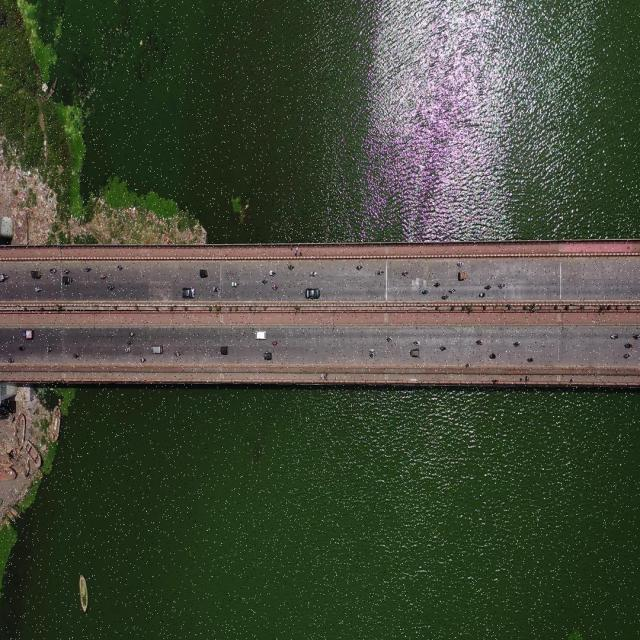3W: (28, 267, 46, 284), (198, 266, 213, 282), (0, 270, 12, 285), (219, 343, 231, 356), (23, 328, 35, 341), (60, 276, 75, 286), (262, 350, 274, 361), (410, 347, 421, 359), (457, 270, 468, 282)
Bus: (252, 330, 272, 343), (262, 346, 271, 371)
Cars: (180, 287, 201, 301), (304, 287, 322, 301)
M2W: (33, 287, 47, 300), (99, 267, 112, 281), (230, 277, 242, 291), (71, 350, 84, 362), (286, 263, 298, 275), (108, 285, 118, 299), (497, 279, 508, 291), (7, 355, 17, 368), (211, 283, 222, 294), (45, 346, 57, 356), (385, 334, 395, 346), (474, 336, 484, 348), (368, 343, 379, 353), (439, 344, 448, 356), (400, 271, 411, 280), (448, 286, 457, 297), (378, 268, 385, 282), (269, 267, 277, 279), (420, 286, 428, 298), (489, 350, 497, 362), (83, 266, 92, 276), (354, 263, 364, 272), (441, 293, 450, 303), (483, 282, 492, 292), (611, 334, 620, 344), (20, 344, 28, 355), (49, 264, 56, 276), (174, 349, 181, 361), (139, 355, 148, 364), (271, 341, 280, 350), (478, 291, 487, 300), (512, 339, 521, 348), (528, 355, 537, 364), (64, 267, 72, 277), (261, 277, 269, 287), (455, 261, 465, 269), (127, 330, 138, 337), (411, 341, 423, 347), (369, 353, 379, 360), (273, 283, 280, 292), (118, 265, 125, 273), (633, 333, 640, 341), (126, 340, 135, 346), (312, 269, 318, 278), (465, 361, 471, 368), (625, 346, 635, 349), (626, 356, 632, 361), (125, 349, 132, 353), (435, 284, 439, 289)
Truck: (149, 341, 165, 356)
